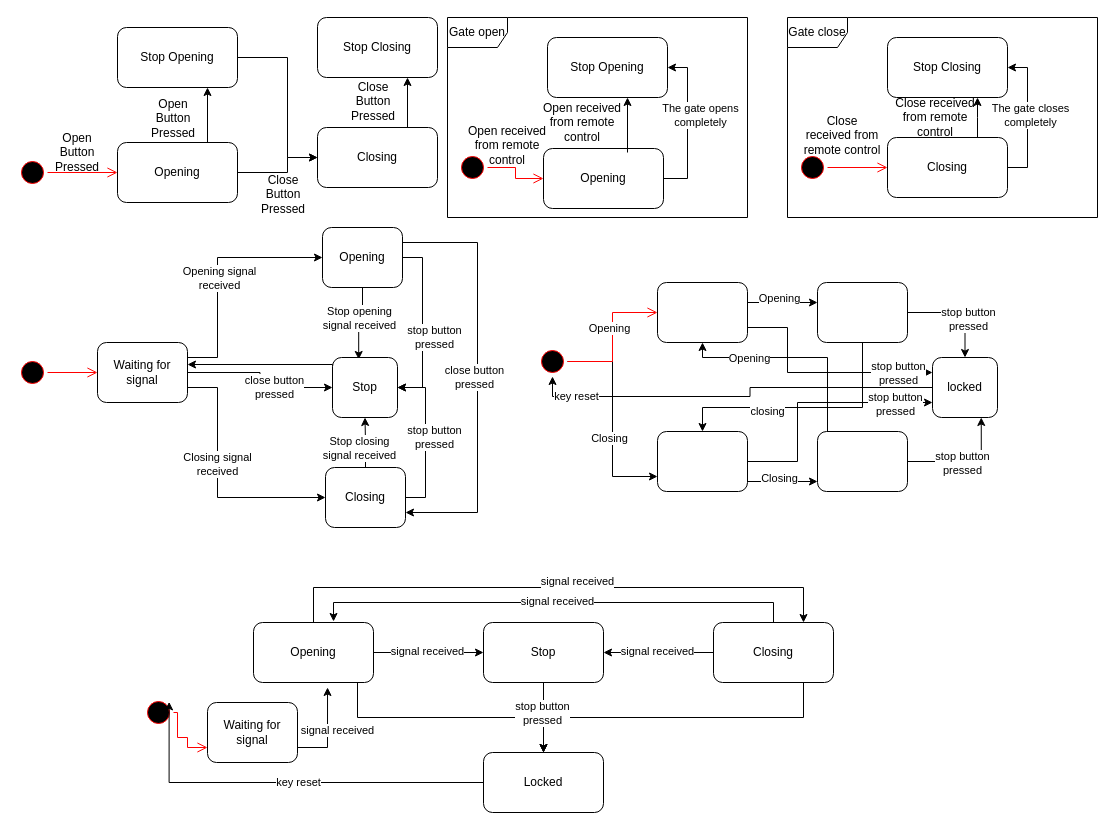
The diagram is 1115 pixels wide and 830 high, and some of its shapes have lost their labels. The shapes that lost their labels are listed below. From the top down, each one's centre as x and y in pixels, then its label:
At point 702,312: "Open Partially".
At point 862,312: "Open Fully".
At point 702,461: "Close Partially".
At point 862,461: "Close Fully".
